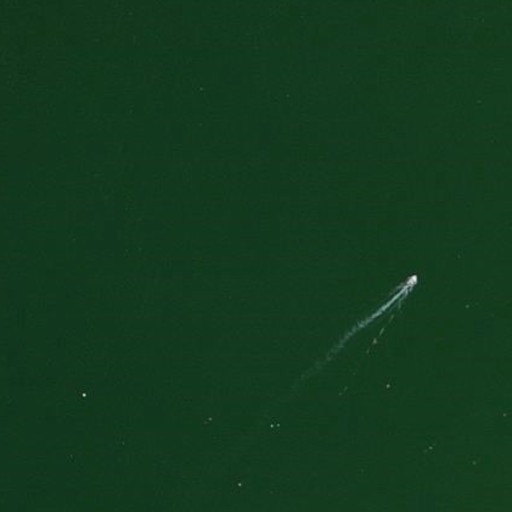ship: (403, 272, 419, 288)
